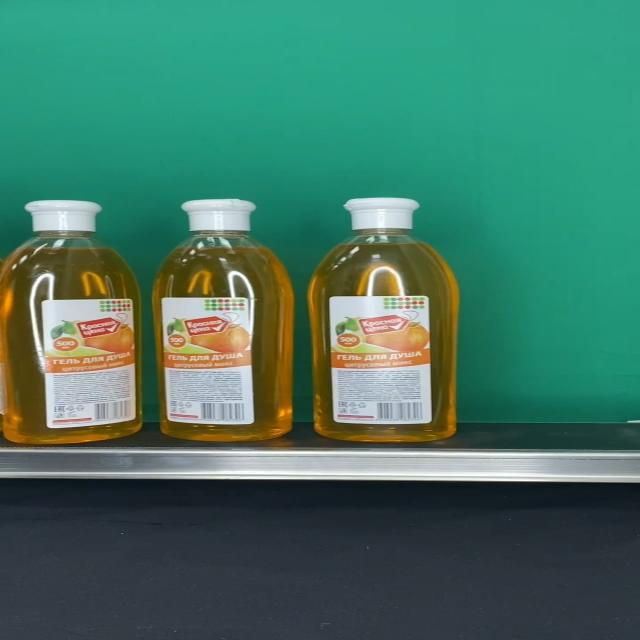Bottle: (309, 198, 458, 442), (152, 199, 294, 441), (0, 200, 140, 444)
Cap: (181, 199, 258, 232), (344, 198, 420, 230), (25, 201, 101, 232)
